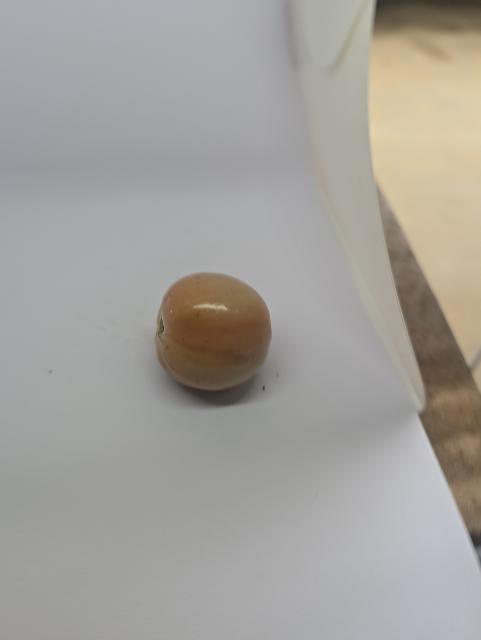turning: (151, 265, 278, 402)
